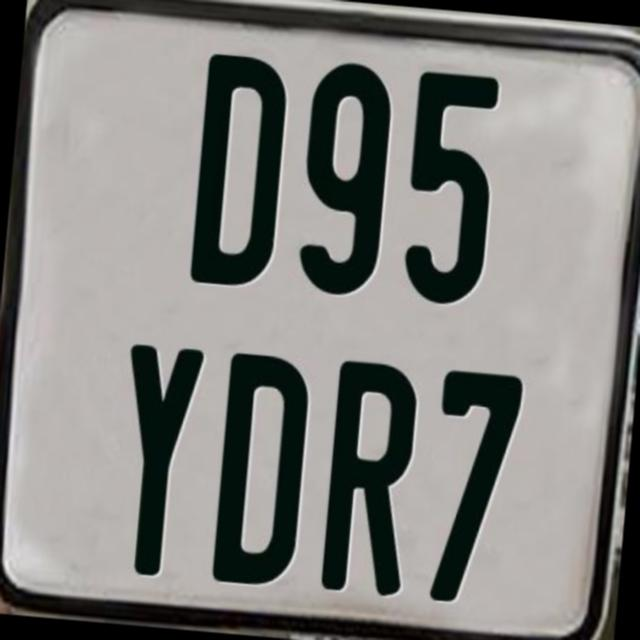5: (396, 68, 498, 305)
7: (422, 369, 524, 606)
9: (292, 59, 394, 299)
D: (210, 352, 314, 590), (188, 50, 292, 285)
R: (318, 357, 420, 603)
Y: (110, 341, 208, 578)
